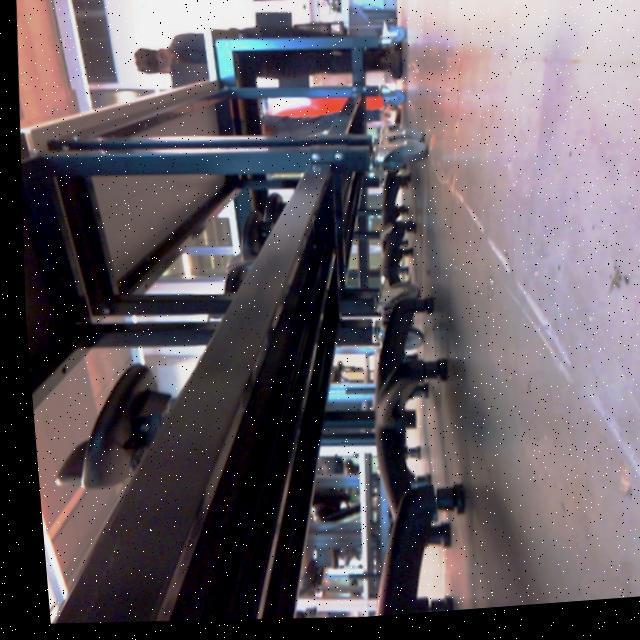redpringles: (69, 0, 640, 36)
